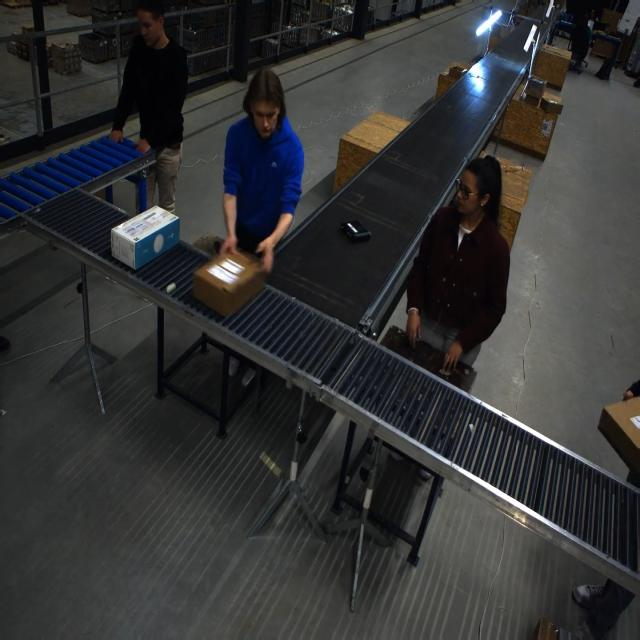box: (191, 248, 263, 314), (109, 205, 179, 270), (523, 75, 547, 100), (539, 92, 563, 115), (447, 64, 468, 79)
product: (339, 219, 370, 243)
